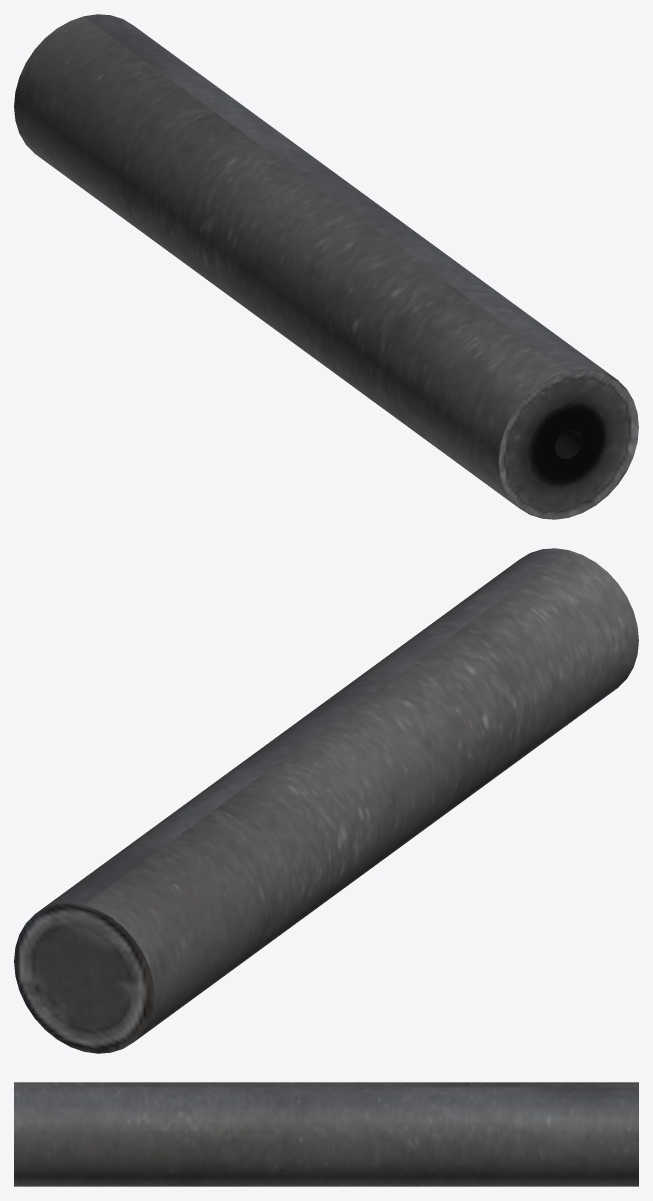
Rendered from MAC11_Silencer.fbx.
3 views of the same model, one above another, from view 1: azimuth 30°, elevation 25°; view 2: azimuth 150°, elevation 25°; view 3: azimuth 270°, elevation 25° (orthographic). The views are drawn at different scales.
Visible parts, largest first — view 1: Cylinder; view 2: Cylinder; view 3: Cylinder.
Boxes of the visible parts, left/top/right/bottom form: Cylinder: left=14, top=14, right=638, bottom=519; Cylinder: left=14, top=548, right=638, bottom=1053; Cylinder: left=14, top=1082, right=638, bottom=1186.
Bounding box in the file's own units: 6.29 × 6.29 × 37.65.
